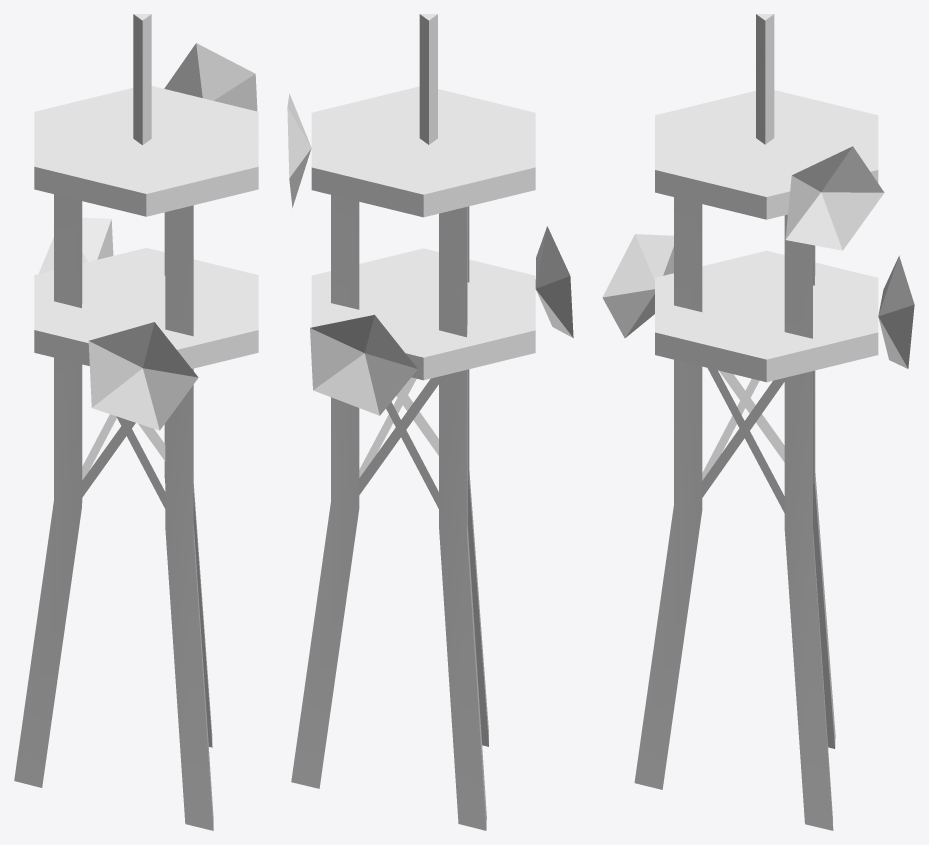
Rendered from center.obj.
3 views of the same model, side by side, from view 1: azimuth 30°, elevation 25°; view 2: azimuth 150°, elevation 25°; view 3: azimuth 270°, elevation 25° (orthographic).
Visible parts, largest first — view 1: pCylinder8, pCylinder4, pCylinder7, pCylinder6, pCone1, pCone3, pCylinder9, pCone2, pCylinder5, pPlane4, pPlane3, pPlane2; view 2: pCylinder8, pCylinder6, pCylinder4, pCylinder5, pCone2, pCone1, pCylinder7, pCylinder9, pCone3, pPlane1, pPlane2, pPlane7; view 3: pCylinder4, pCylinder8, pCylinder5, pCylinder7, pCone3, pCone1, pCone2, pCylinder6, pCylinder9, pPlane8, pPlane7, pPlane3 (+1 smaller).
Part boxes in pixels (<box>): pCylinder8: <box>34,86,258,216</box>; pCylinder4: <box>34,248,258,368</box>; pCylinder7: <box>165,205,213,830</box>; pCylinder6: <box>14,194,82,787</box>; pCone1: <box>88,322,198,430</box>; pCone3: <box>164,43,257,111</box>; pCylinder9: <box>133,14,151,145</box>; pCone2: <box>38,217,113,273</box>; pCylinder5: <box>164,212,212,747</box>; pPlane4: <box>116,416,165,508</box>; pPlane3: <box>82,420,135,497</box>; pPlane2: <box>82,414,116,479</box>; pCylinder8: <box>311,86,535,217</box>; pCylinder6: <box>439,206,486,830</box>; pCylinder4: <box>311,248,535,380</box>; pCylinder5: <box>291,195,359,788</box>; pCone2: <box>310,314,417,415</box>; pCone1: <box>535,226,573,337</box>; pCylinder7: <box>467,206,488,746</box>; pCylinder9: <box>419,14,437,144</box>; pCone3: <box>287,93,311,207</box>; pPlane1: <box>359,376,438,494</box>; pPlane2: <box>386,402,438,508</box>; pPlane7: <box>359,377,416,477</box>; pCylinder4: <box>655,250,878,382</box>; pCylinder8: <box>655,90,878,219</box>; pCylinder5: <box>784,214,833,830</box>; pCylinder7: <box>634,197,702,789</box>; pCone3: <box>785,146,884,250</box>; pCone1: <box>602,234,673,338</box>; pCone2: <box>878,255,914,368</box>; pCylinder6: <box>813,245,835,748</box>; pCylinder9: <box>756,14,774,144</box>; pPlane8: <box>702,378,784,497</box>; pPlane7: <box>707,368,784,512</box>; pPlane3: <box>719,370,784,462</box>.
Size of the model in its own units: 3.93 by 12.32 by 4.56.
